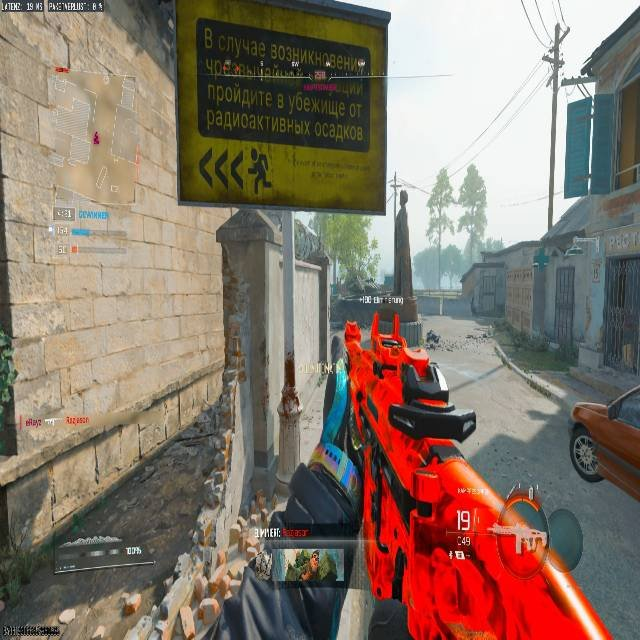player: (425, 329, 440, 350)
